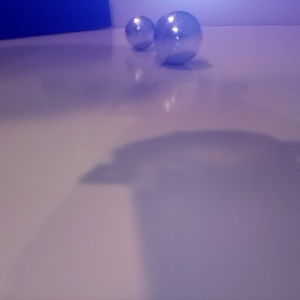alive_ball: (154, 11, 202, 64), (124, 15, 155, 50)
